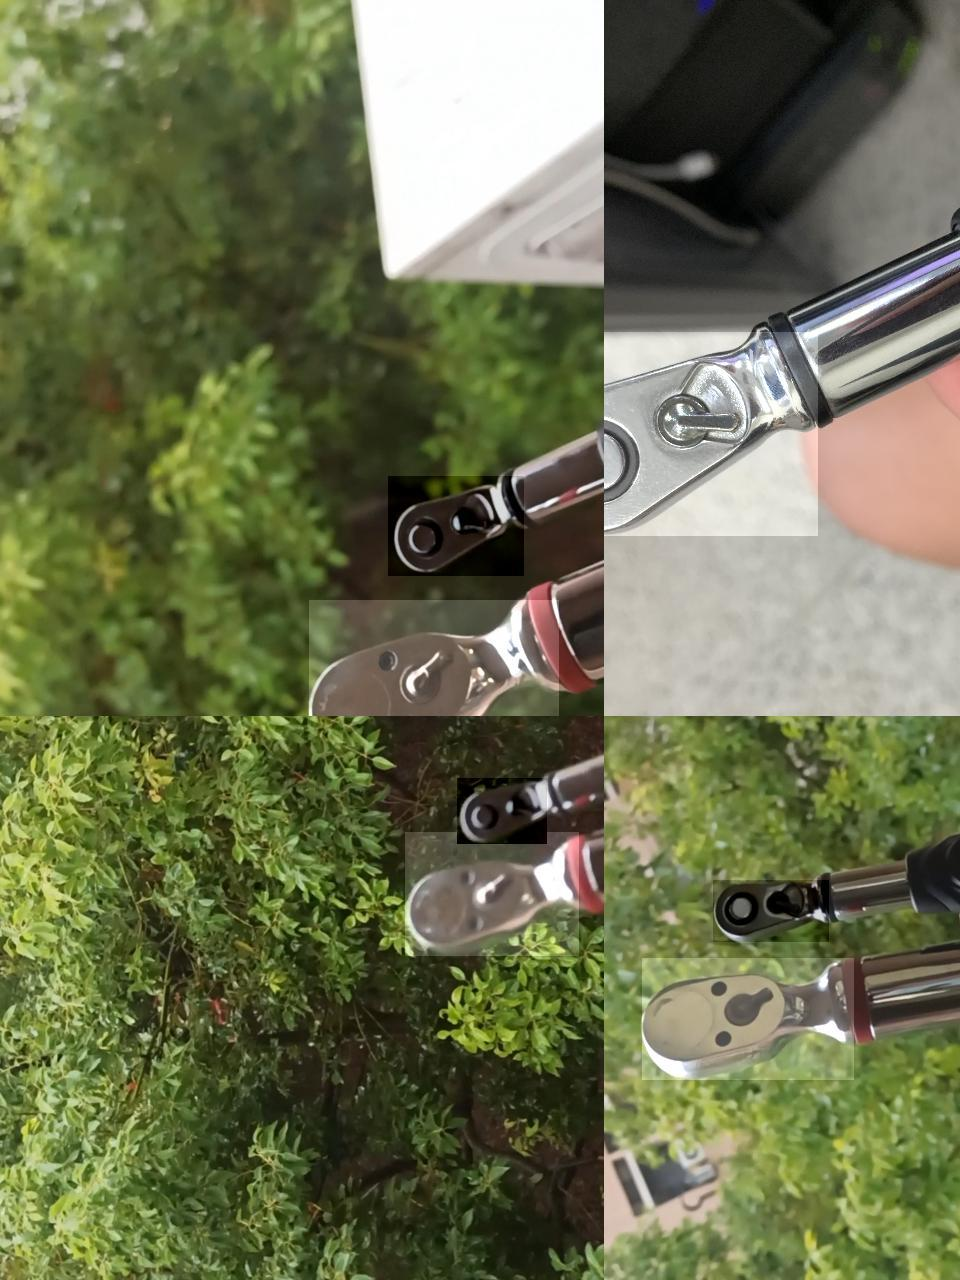Tool: (604, 332, 818, 536), (309, 600, 559, 716), (642, 958, 854, 1080), (405, 833, 579, 956), (388, 476, 524, 577), (713, 880, 829, 942), (457, 778, 547, 844)
